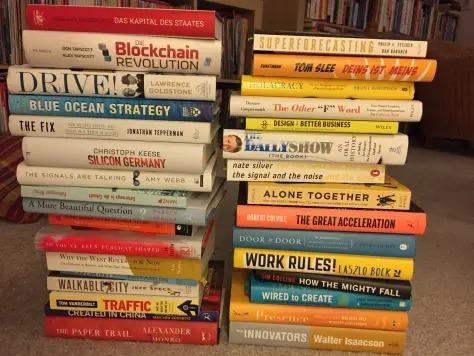book: (22, 31, 217, 73), (38, 222, 215, 265), (20, 136, 219, 172), (21, 159, 220, 193), (13, 68, 218, 101), (14, 113, 220, 144), (230, 202, 423, 234), (30, 4, 214, 36), (231, 225, 420, 256), (233, 248, 412, 279), (10, 95, 219, 121), (238, 177, 412, 208), (226, 323, 409, 352), (248, 55, 433, 83), (230, 95, 417, 120), (49, 290, 214, 318), (225, 159, 401, 185), (239, 77, 418, 100), (252, 33, 426, 56), (48, 275, 207, 299)
